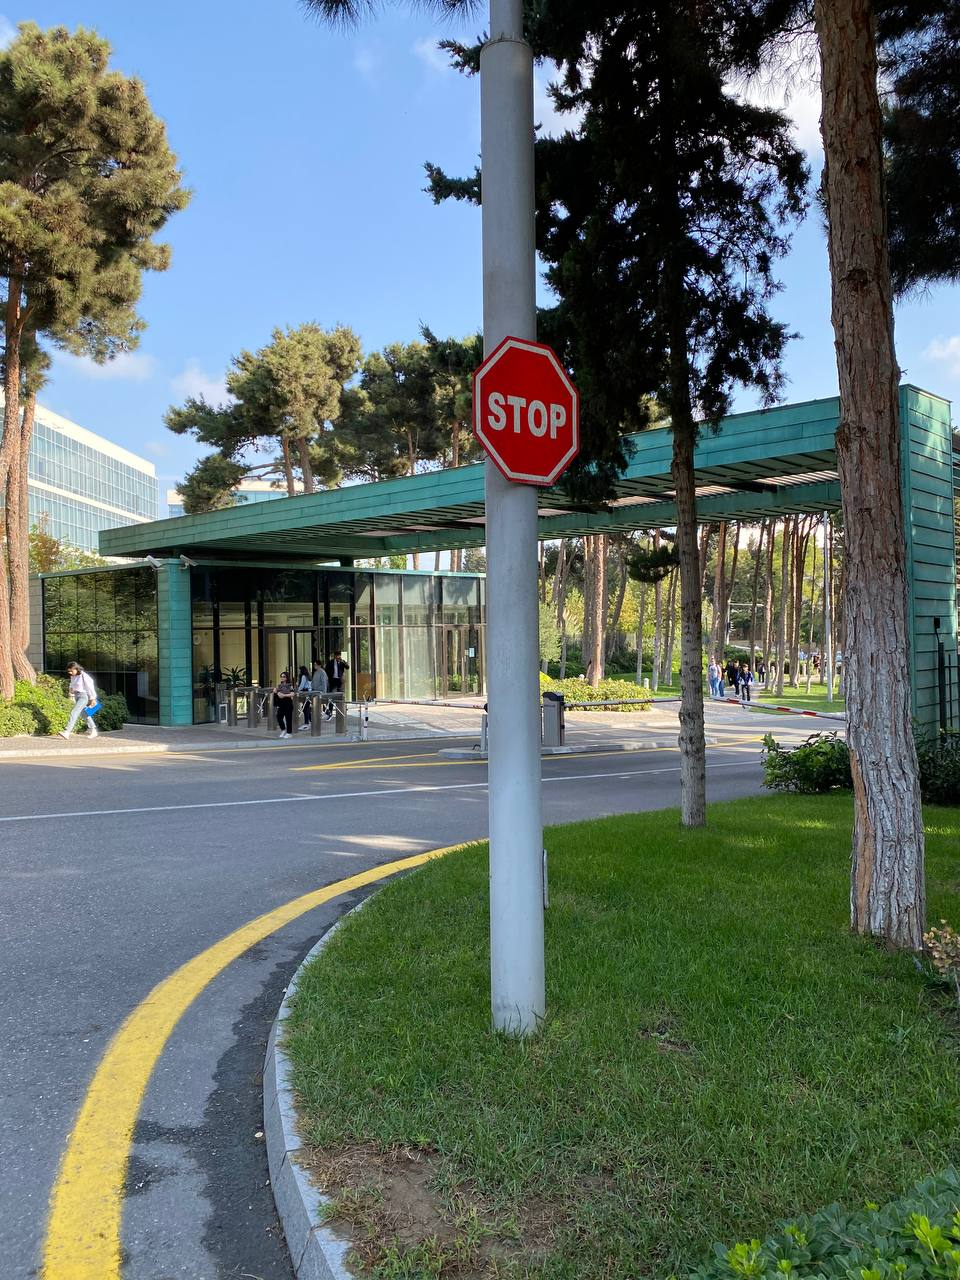STOP: (472, 336, 579, 486)
